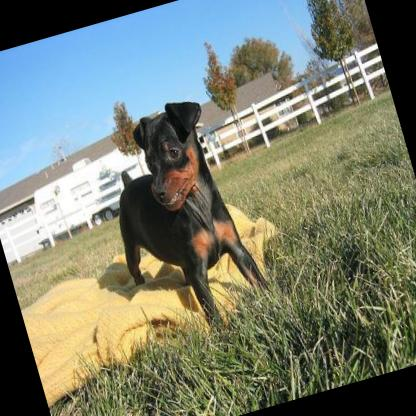miniature_pinscher: (82, 87, 288, 360)
